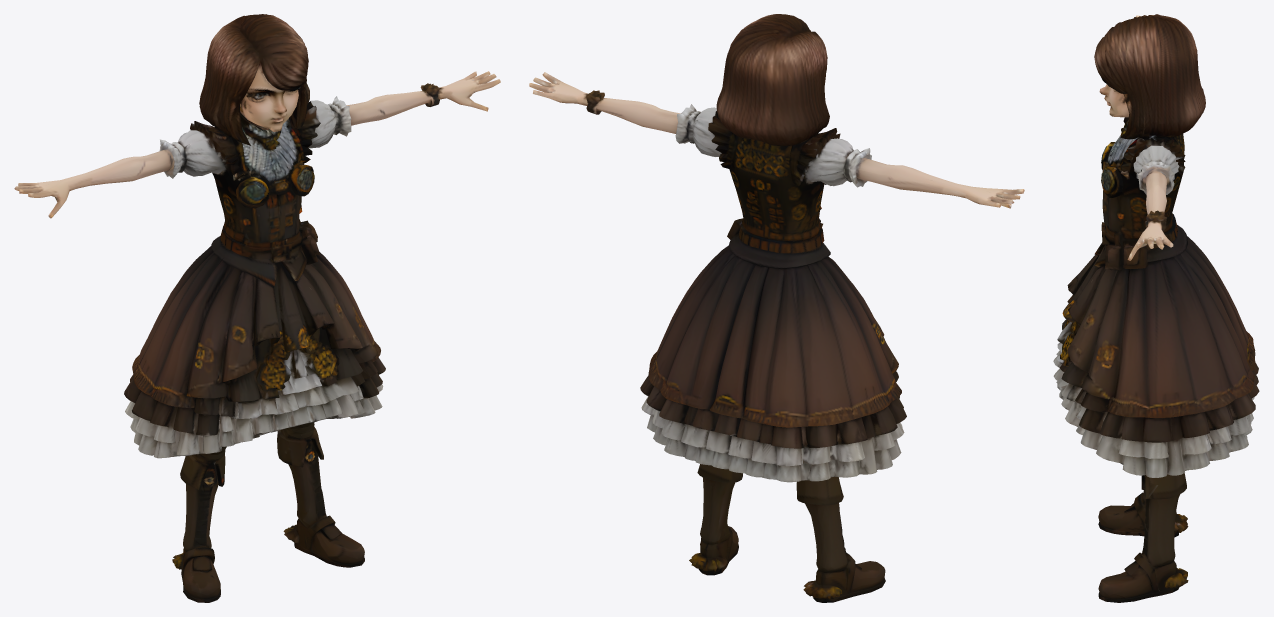
File: base_basic_shaded.fbx
3 renders of one model, left to right at view 1: azimuth 30°, elevation 25°; view 2: azimuth 150°, elevation 25°; view 3: azimuth 270°, elevation 25°, orthographic. The views are drawn at different scales.
Visible parts, largest first — view 1: model; view 2: model; view 3: model.
Part boxes in pixels (x1,y1,x2,y2): model: (14, 14, 500, 602); model: (529, 14, 1024, 602); model: (1053, 14, 1259, 602).
Size of the model in its own units: 163 by 178 by 61.37.
